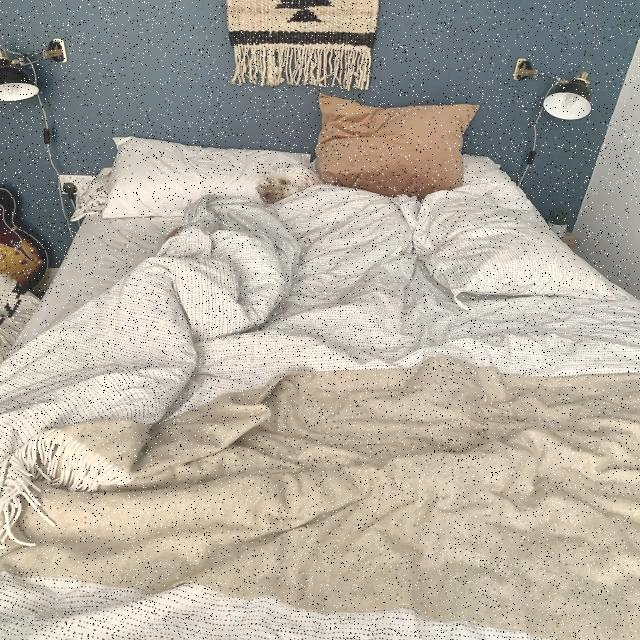bed: (22, 141, 640, 640)
